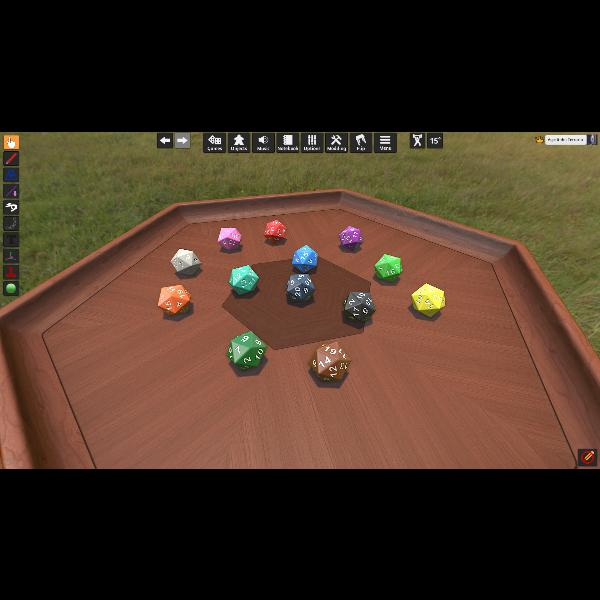d20: (308, 340, 350, 382), (226, 330, 268, 370), (411, 283, 443, 317), (158, 284, 192, 316), (343, 290, 375, 322), (228, 265, 258, 295), (171, 248, 201, 276), (286, 273, 314, 301), (292, 244, 317, 272), (375, 254, 401, 280), (264, 219, 288, 243), (216, 227, 240, 249), (340, 226, 362, 250)
